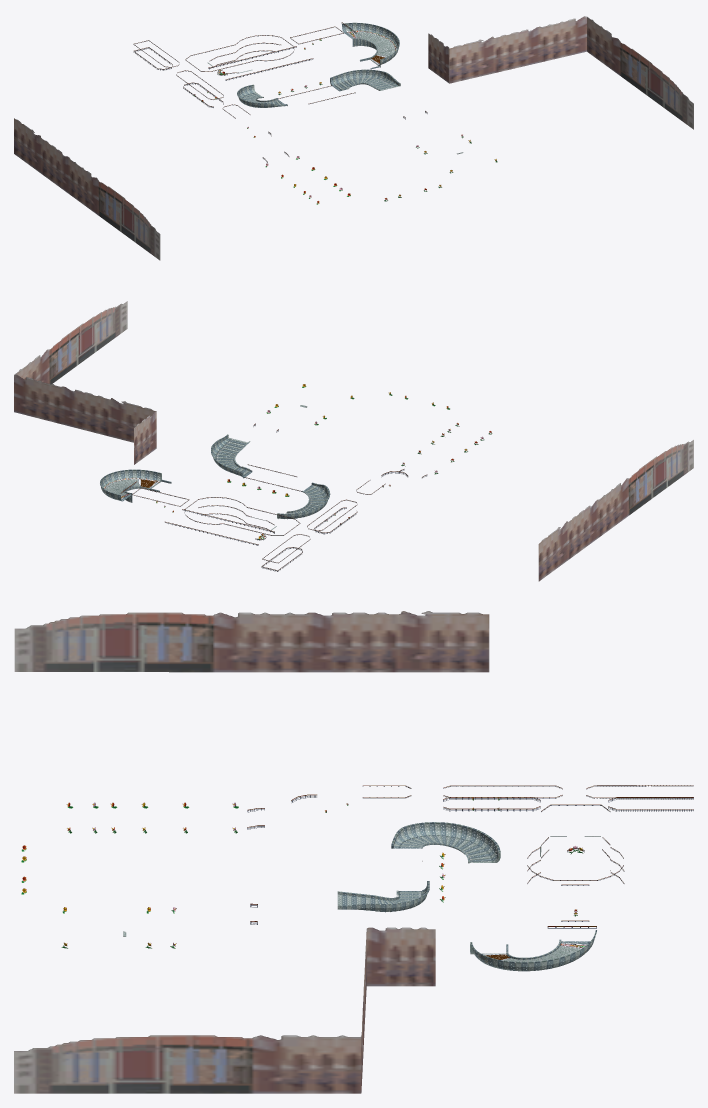
Rendered from fixcollisioniscale.fbx.
3 renders of one model, top to bottom at view 1: azimuth 30°, elevation 25°; view 2: azimuth 150°, elevation 25°; view 3: azimuth 270°, elevation 25°, orthographic. The views are drawn at different scales.
Visible parts, largest first — view 1: polygon22; view 2: polygon22; view 3: polygon22.
Part boxes in pixels (x1,y1,x2,y2): polygon22: (14, 16, 693, 260); polygon22: (14, 301, 693, 581); polygon22: (14, 611, 693, 1093).
Bounding box in the file's own units: 124791 × 8548 × 84818.
Materials: 1 (1 with a texture image).
